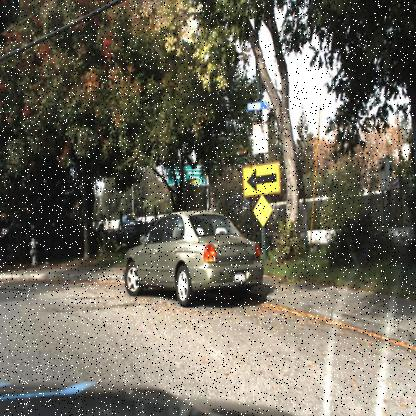car: (121, 207, 267, 309), (113, 208, 148, 229)
